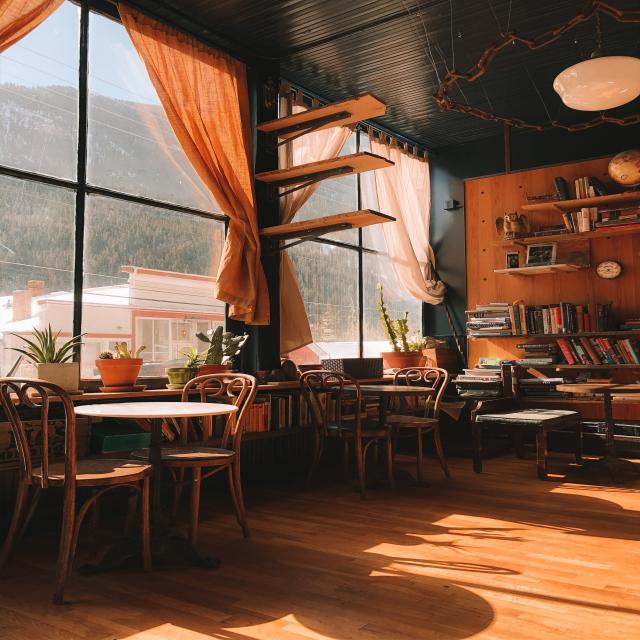chair: (0, 362, 138, 561), (146, 348, 256, 528), (284, 346, 379, 487), (384, 347, 473, 479)
table: (71, 386, 252, 457), (323, 366, 447, 420)
window: (0, 8, 292, 360)
